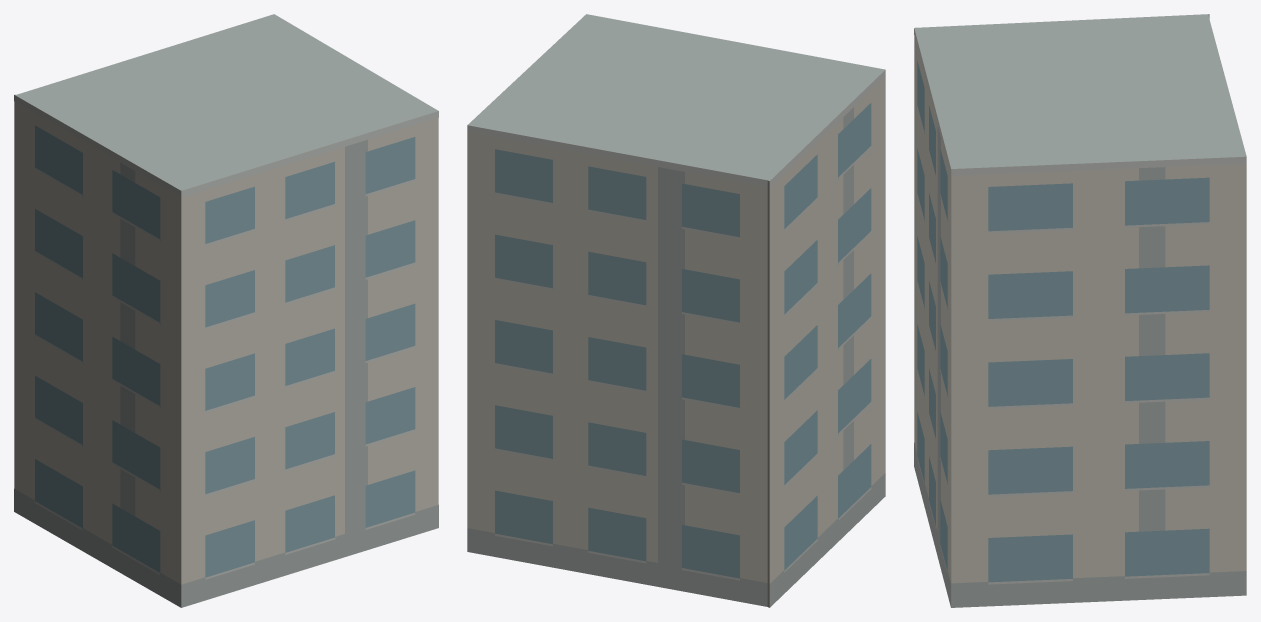
The model's file is survey-upis-32664208.glb.
The picture shows the model from 3 angles, left to right: view 1: azimuth 30°, elevation 25°; view 2: azimuth 150°, elevation 25°; view 3: azimuth 270°, elevation 25°; orthographic projection. The views are drawn at different scales.
Parts seen in each view (by area): view 1: survey-upis-32664208.tmp; view 2: survey-upis-32664208.tmp; view 3: survey-upis-32664208.tmp.
Part boxes in pixels (x1,y1,x2,y2): survey-upis-32664208.tmp: (14,14,438,607); survey-upis-32664208.tmp: (467,14,885,607); survey-upis-32664208.tmp: (914,14,1246,607).
Bounding box in the file's own units: 11.56 × 15.25 × 10.48.
